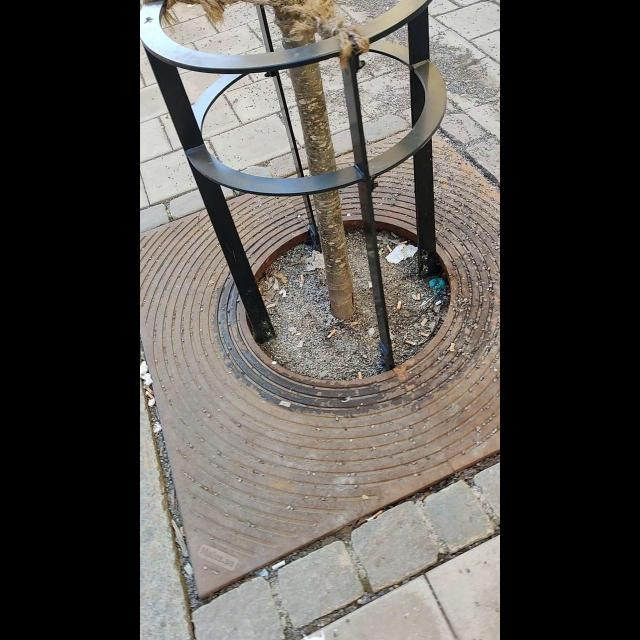cigarette: (366, 510, 382, 523), (272, 560, 286, 570), (280, 399, 292, 408), (403, 340, 416, 347), (326, 330, 335, 340), (145, 391, 154, 400), (449, 342, 455, 353), (397, 240, 408, 246), (418, 332, 431, 337), (266, 303, 276, 309), (396, 301, 402, 310), (386, 244, 393, 251), (358, 371, 363, 380), (353, 321, 360, 327), (300, 274, 305, 282), (422, 318, 427, 326), (147, 387, 153, 392), (418, 292, 420, 302)
